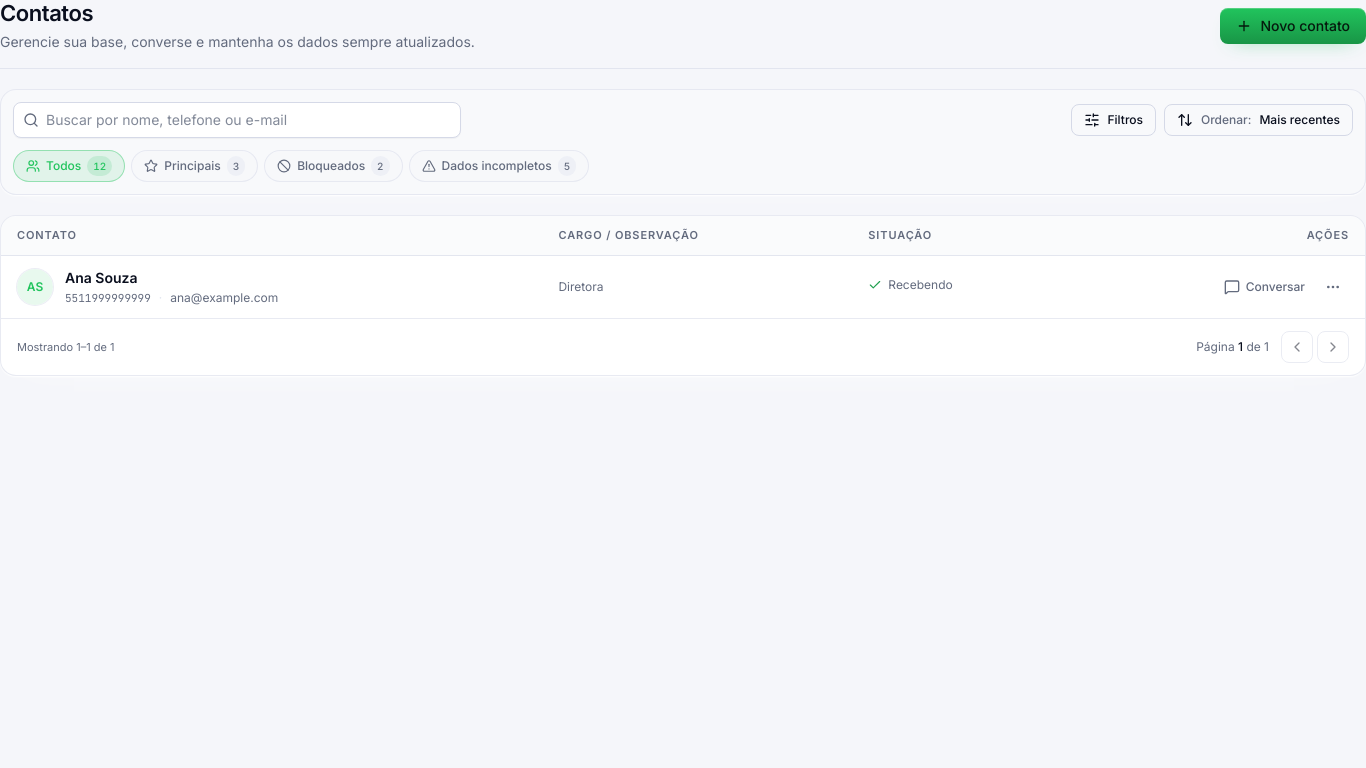
Scenario: ContactListPage details panel › keeps the listing context after closing the details panel
What coordinates should you click on to do the following:
click the text "Ana Souza"
I would click on:
 (101, 278)
Its box is [65,268,138,288].
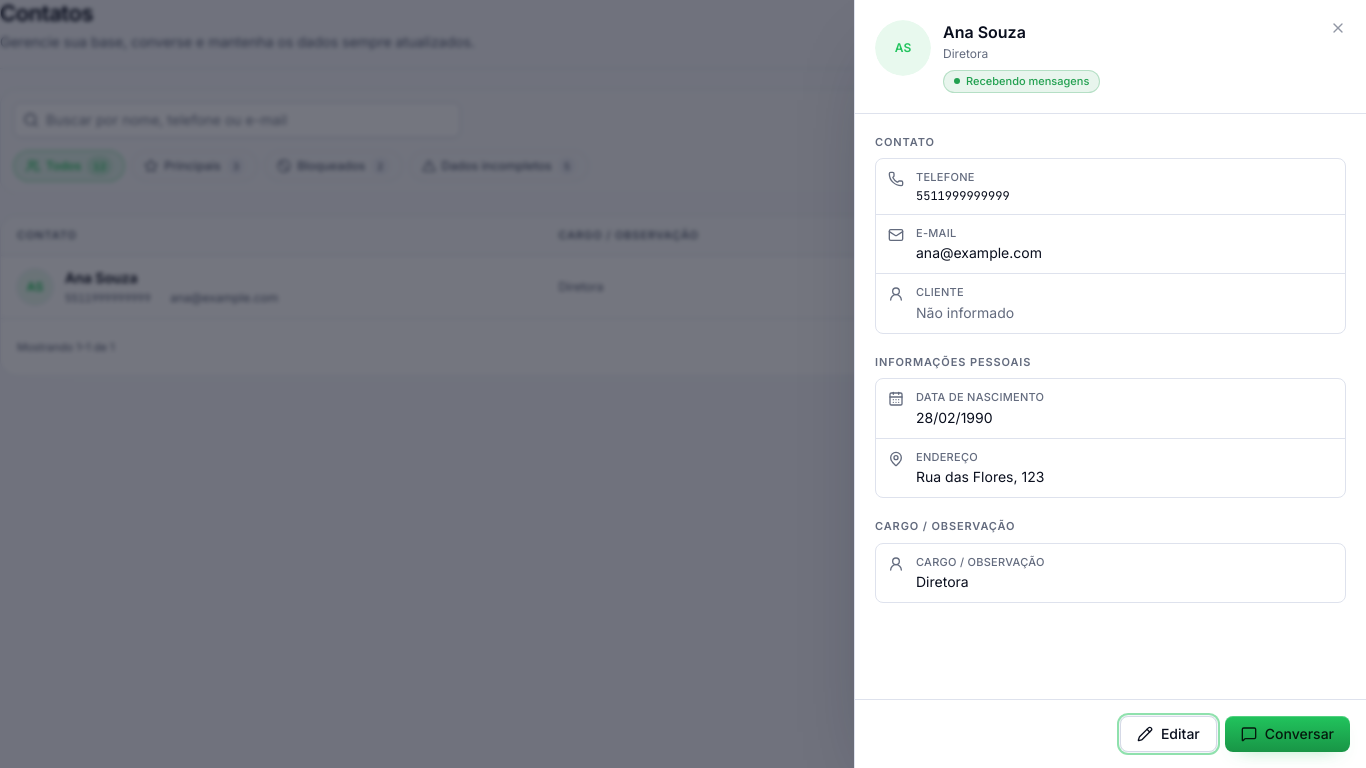
What coordinates should you click on to do the following:
click the button named "Fechar"
I would click on:
 (1338, 28)
Its box is [1326,16,1350,40].
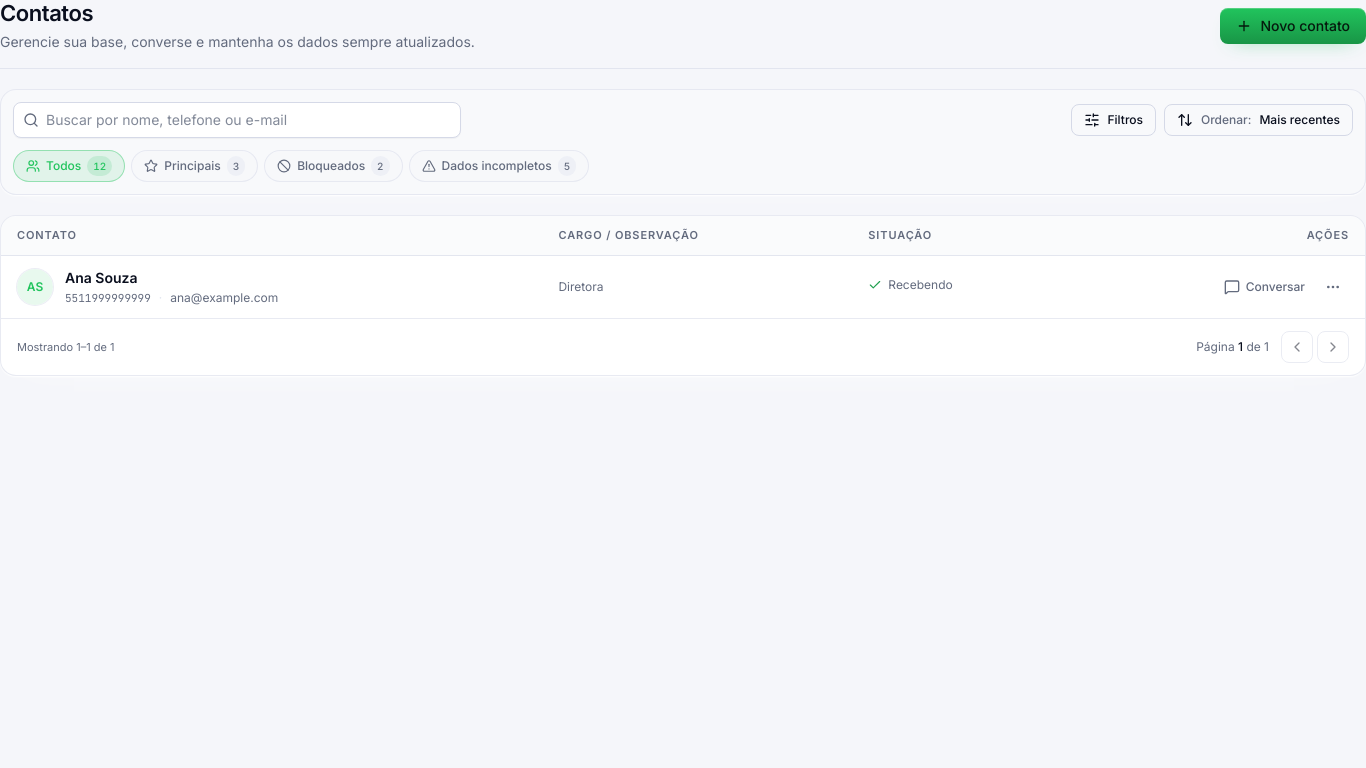
Expected: the text "Ana Souza" is shown, [65,268,138,288]
Now the heading "Informações pessoais" is gone
